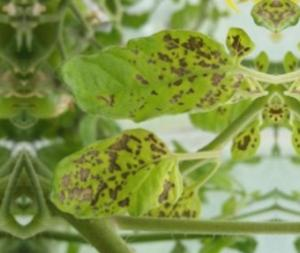Tomato leaf bacterial spot: (50, 3, 255, 128), (40, 122, 183, 221)
